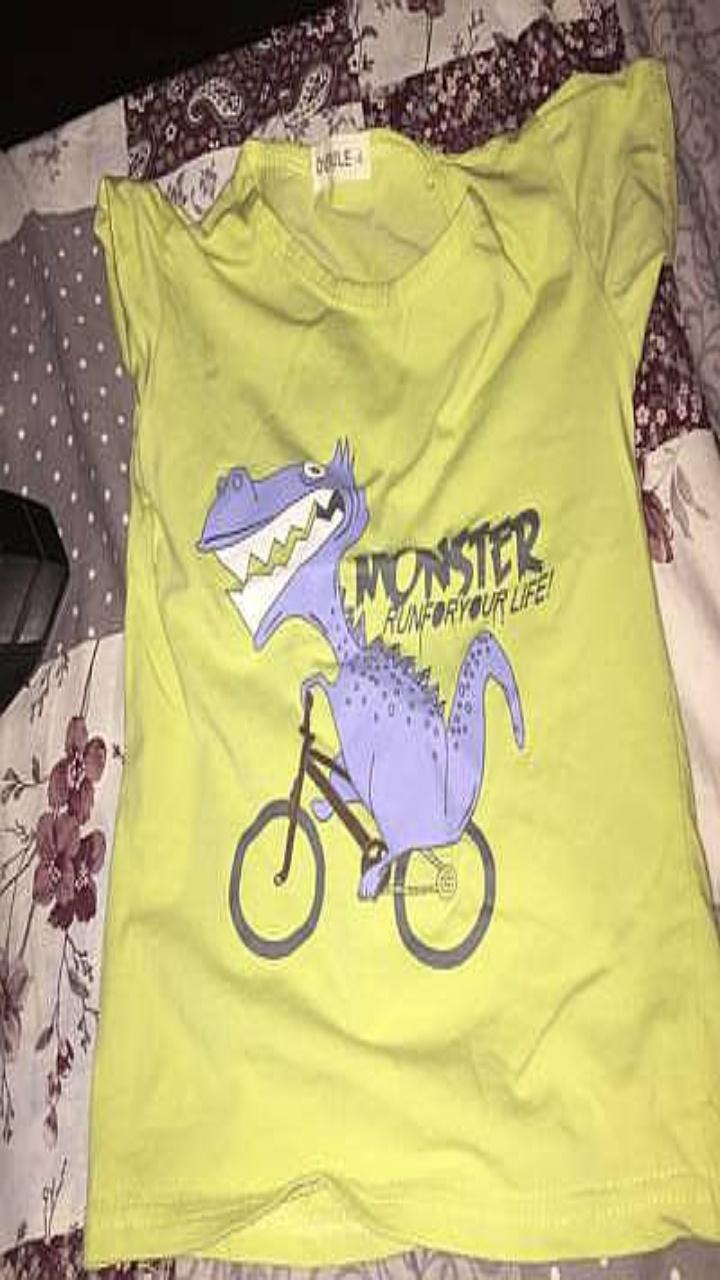T-Shirt: (85, 60, 719, 1264)
